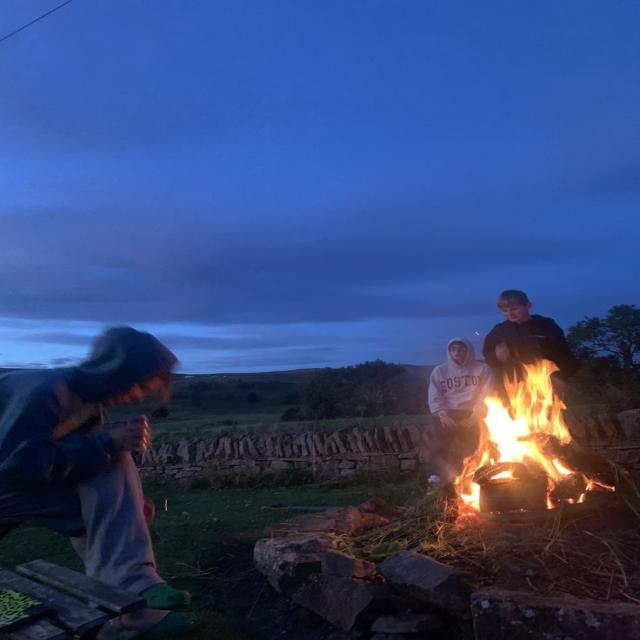fire: (454, 360, 618, 511)
